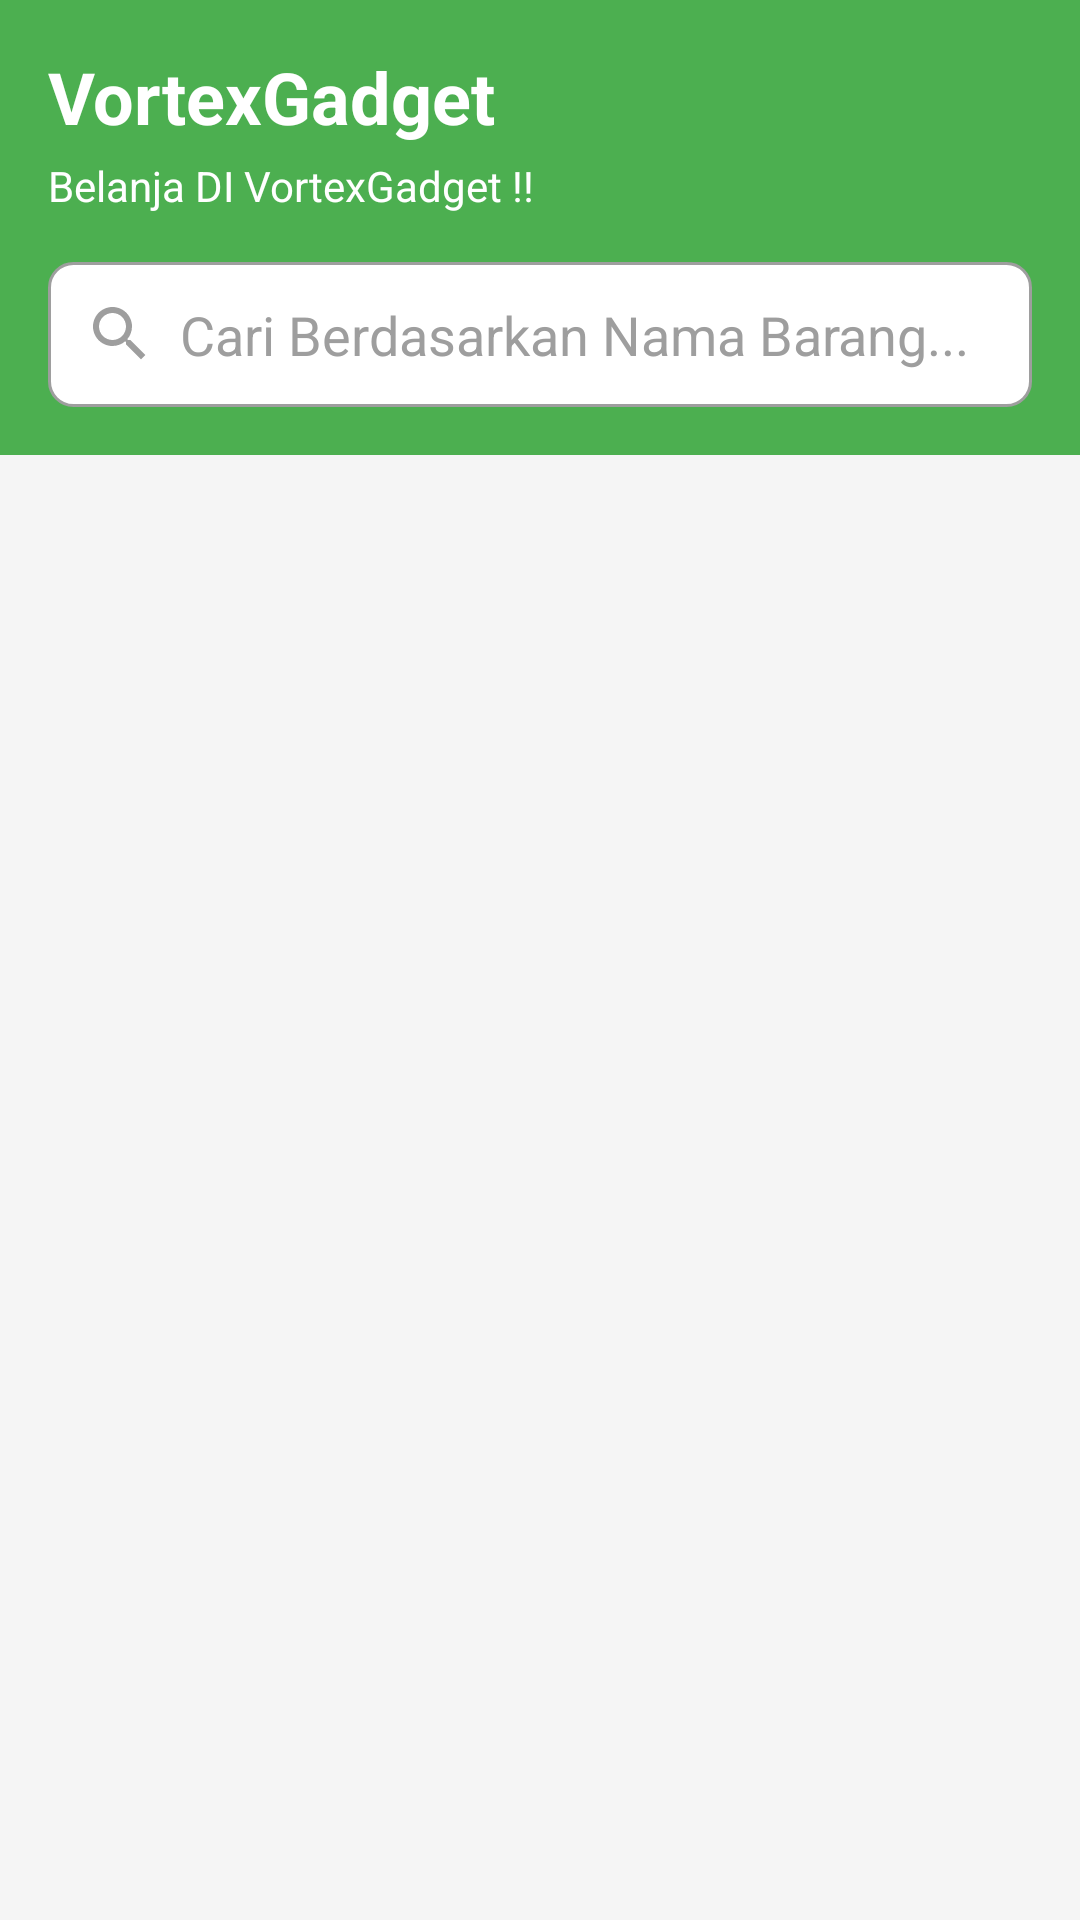

Screen size 1080x1920. Icon name, then its center in pixels as (x,y):
search: (119,333)
